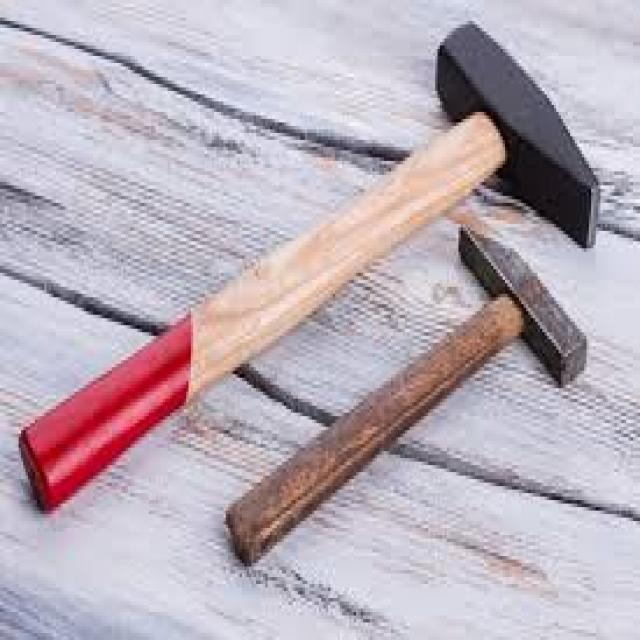hammer: (226, 225, 592, 589), (296, 18, 604, 252)
